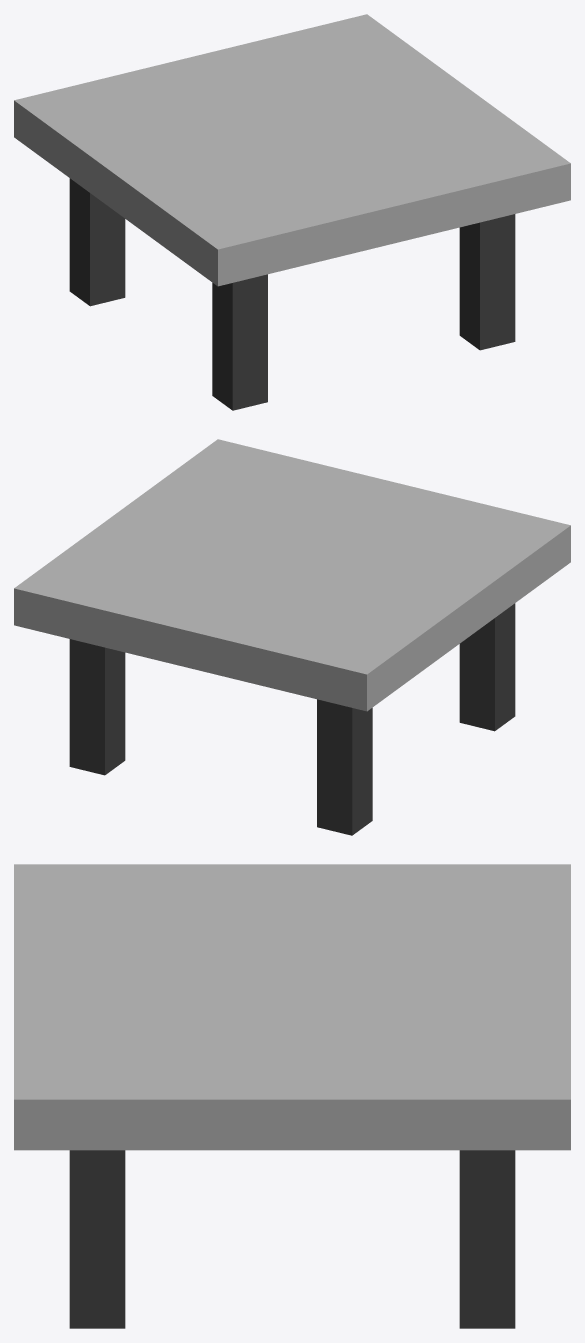
The model's file is obj_table1.fbx.
The picture shows the model from 3 angles, top to bottom: view 1: azimuth 30°, elevation 25°; view 2: azimuth 150°, elevation 25°; view 3: azimuth 270°, elevation 25°; orthographic projection. The views are drawn at different scales.
Visible parts, largest first — view 1: obj_table1; view 2: obj_table1; view 3: obj_table1.
Boxes of the visible parts, <box> form: obj_table1: <box>14,14,570,410</box>; obj_table1: <box>14,439,570,835</box>; obj_table1: <box>14,864,570,1328</box>.
Bounding box in the file's own units: 1 × 1 × 0.5.
Materials: 1 (1 with a texture image).
